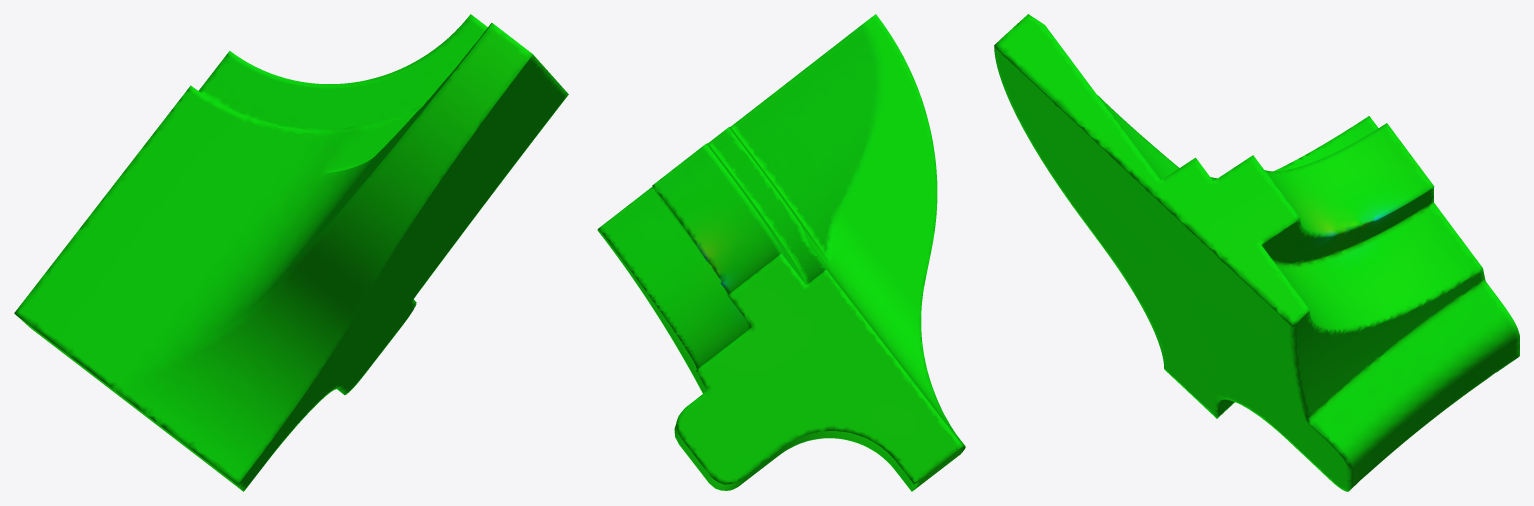
The model's file is all=0.000066-hole=0.000525-mgcn-w-refine.obj.
The picture shows the model from 3 angles, left to right: view 1: azimuth 30°, elevation 25°; view 2: azimuth 150°, elevation 25°; view 3: azimuth 270°, elevation 25°; orthographic projection. The views are drawn at different scales.
Bounding box in the file's own units: 83.94 × 79.17 × 79.9.
